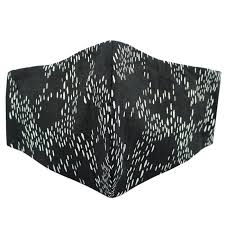FaceMask: (6, 40, 221, 198)
